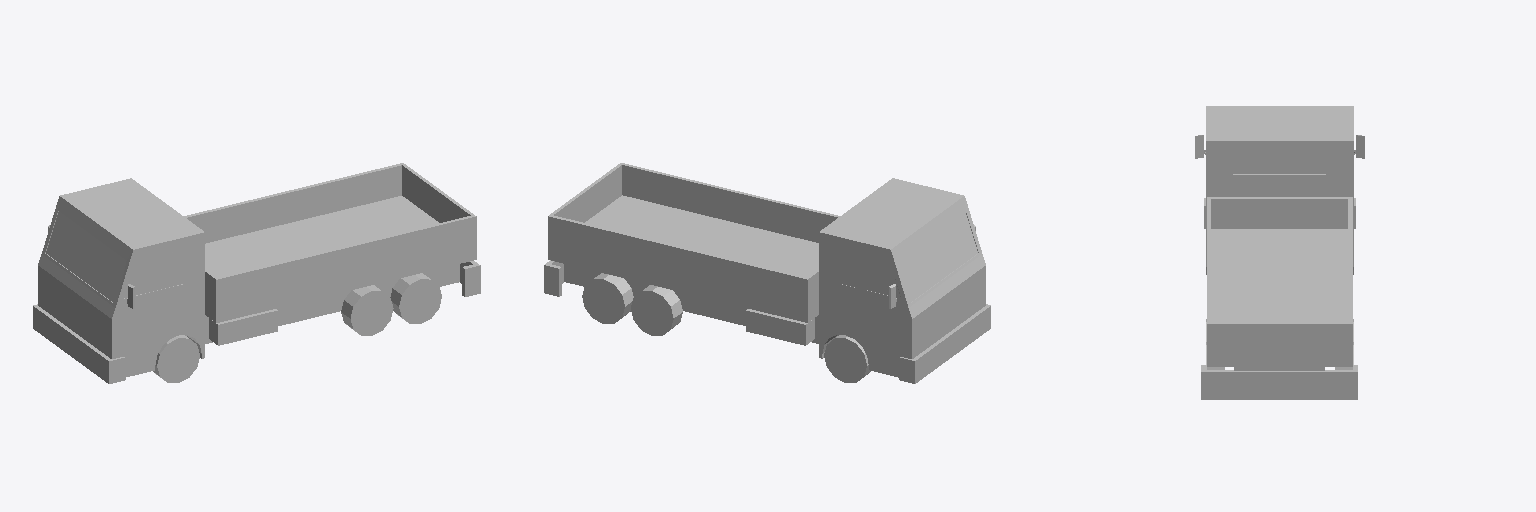
The model's file is truck.obj.
The picture shows the model from 3 angles: view 1: azimuth 30°, elevation 25°; view 2: azimuth 150°, elevation 25°; view 3: azimuth 270°, elevation 25°; orthographic projection.
Visible parts, largest first — view 1: Body, Wheel_RL1, Wheel_RL2, Wheel_FL; view 2: Body, Wheel_RR1, Wheel_RR2, Wheel_FR; view 3: Body.
Part boxes in pixels (x1,y1,x2,y2): Body: (33,163,480,383); Wheel_RL1: (341,285,393,335); Wheel_RL2: (390,273,441,323); Wheel_FL: (153,335,199,382); Body: (544,163,990,383); Wheel_RR1: (631,285,682,335); Wheel_RR2: (582,273,633,323); Wheel_FR: (824,335,870,382); Body: (1195,106,1364,399).
Bounding box in the file's own units: 358 × 134 × 143.